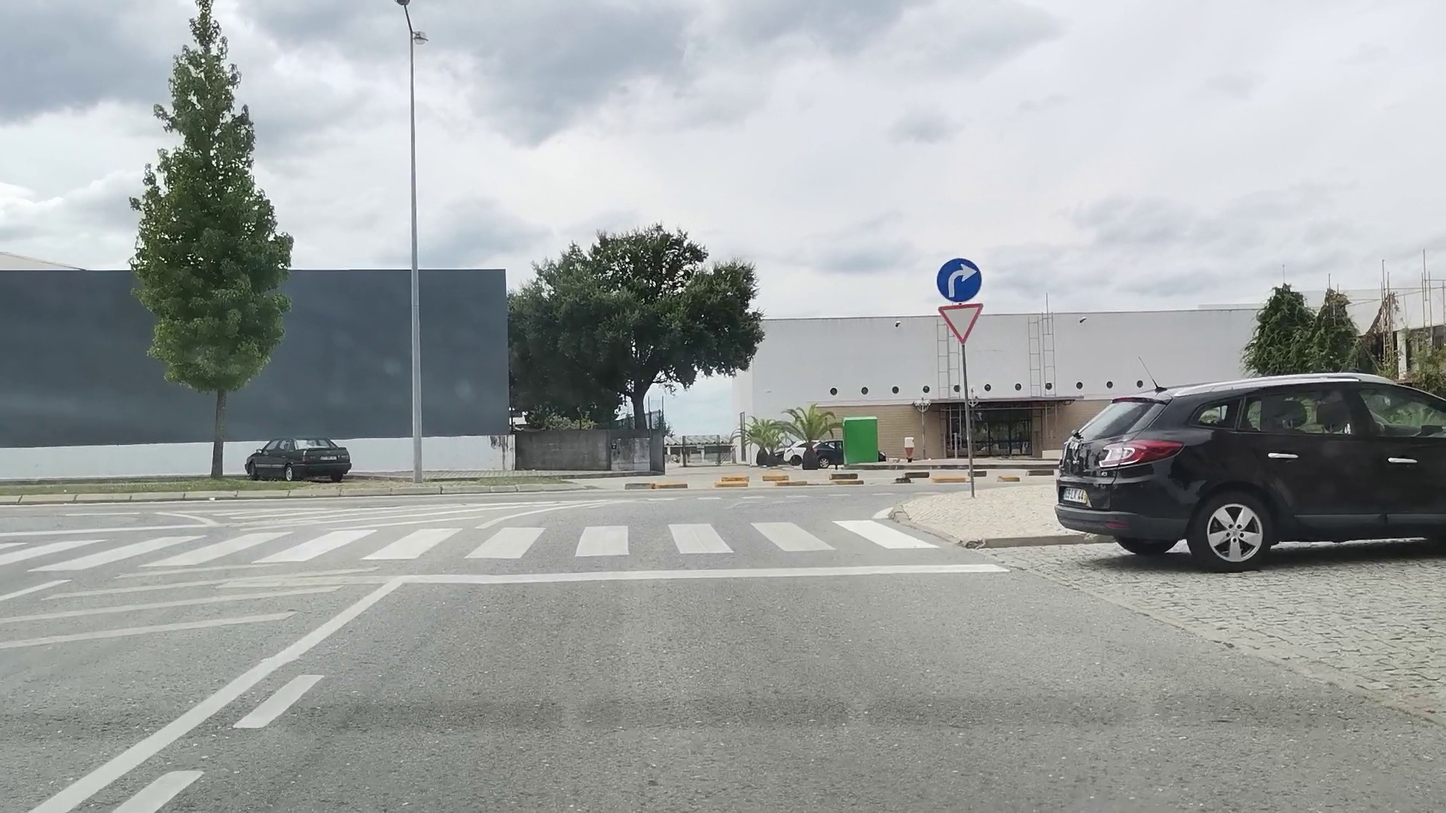Stairs: (0, 517, 936, 571)
